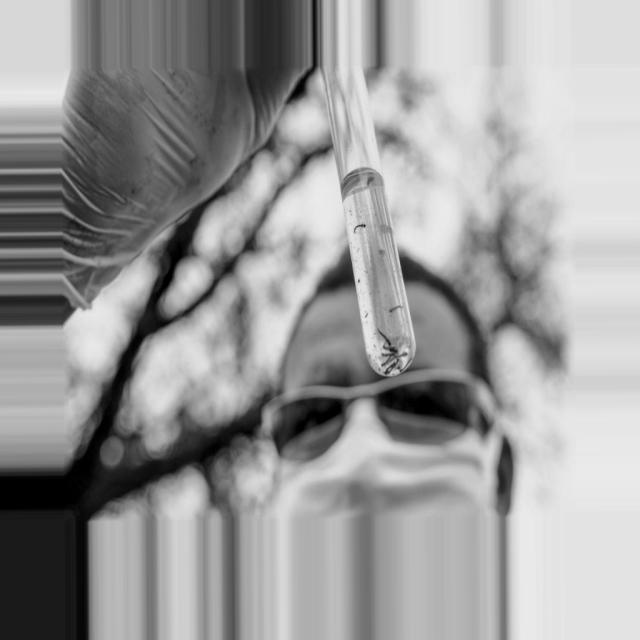larvas: (400, 355, 414, 374), (378, 327, 391, 346), (389, 358, 400, 374), (384, 360, 395, 375), (381, 355, 391, 368), (353, 224, 365, 232), (390, 305, 403, 312), (384, 346, 398, 352), (381, 353, 391, 357), (395, 353, 407, 356)
